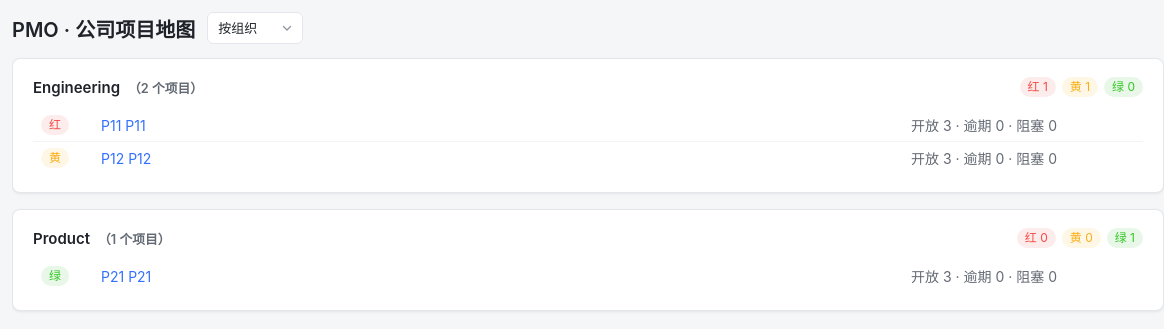
Test: PmoPortfolioPage › refetches when groupBy toggles (TC-PMOFE-02)
Expected: the element with test id "pmo-group-DEPARTMENT-1" is shown, left=12, top=58, right=1163, bottom=193
Select "按负责人" in the dropdown with test id "pmo-groupby" at (255, 28), box left=207, top=12, right=303, bottom=44
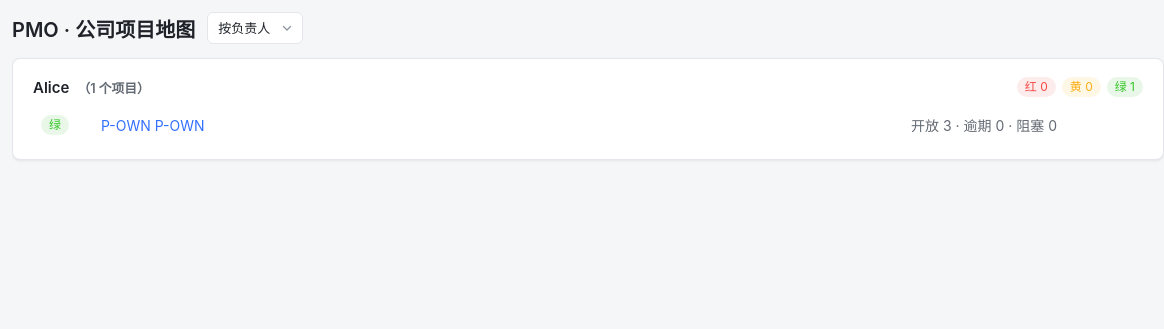
Expected: the element with test id "pmo-group-USER-7" is shown, left=12, top=58, right=1163, bottom=160
Expected: the row with test id "pmo-row-101" is shown, left=33, top=109, right=1143, bottom=141
